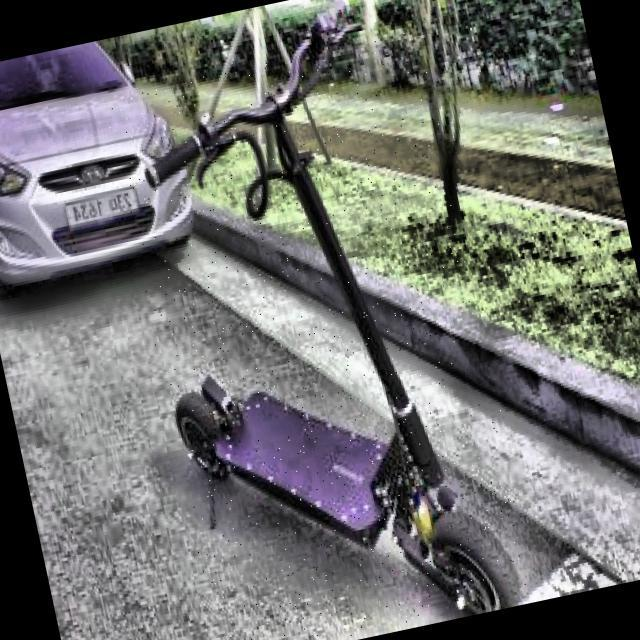bike: (165, 5, 519, 617)
car: (0, 41, 195, 298)
